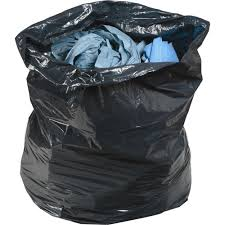Trash: (6, 5, 215, 222)
